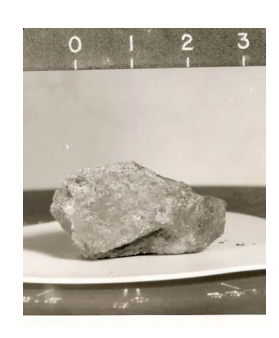Breccia: (14, 150, 230, 254)
